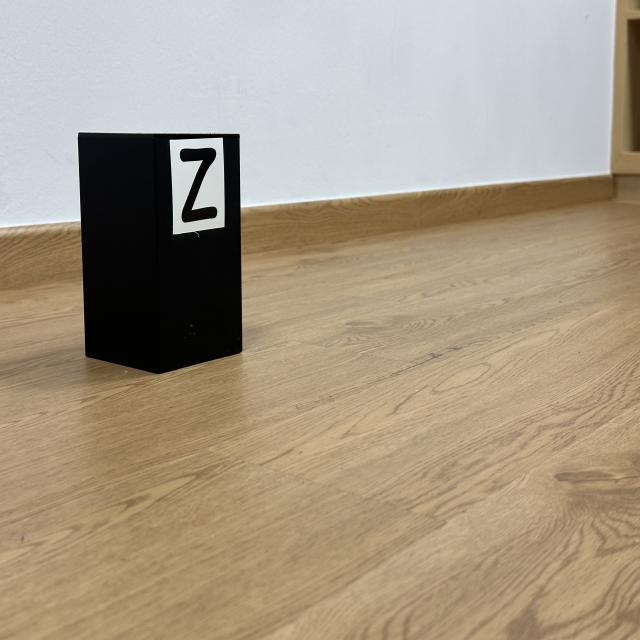Z: (180, 148, 218, 223)
